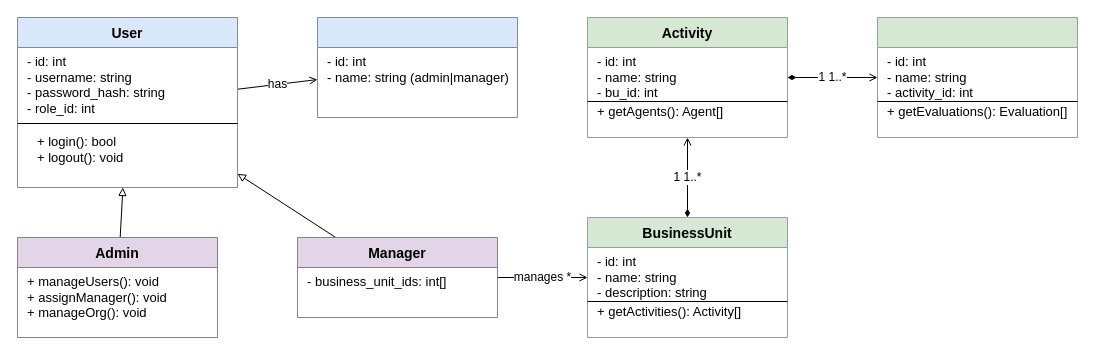
Some shapes in this 1095 by 355 pixel diagram are drawn without their labels. Here are the shapes that lost their labels. From the top down, the box of each, then its label:
(316, 16, 518, 118): Role
(876, 16, 1078, 138): Agent
